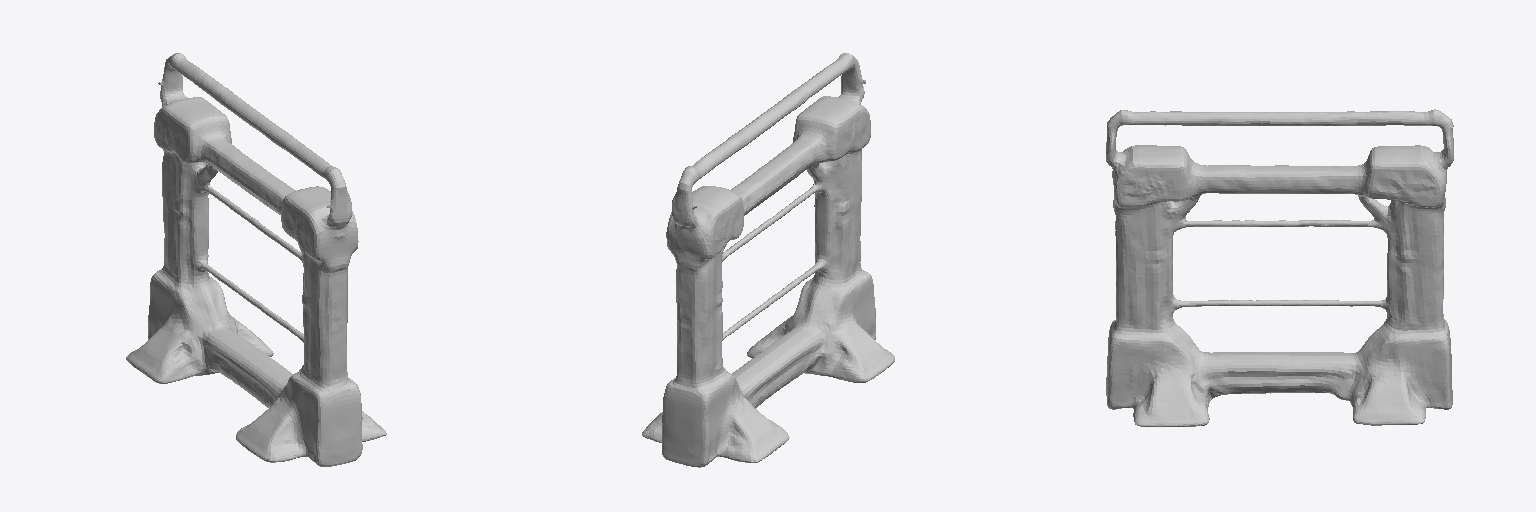
File: 544d33f1e6b6_a_sci_fi_barrier_mi.obj
The picture shows the model from 3 angles: view 1: azimuth 30°, elevation 25°; view 2: azimuth 150°, elevation 25°; view 3: azimuth 270°, elevation 25°; orthographic projection.
Parts seen in each view (by area): view 1: mesh; view 2: mesh; view 3: mesh.
Boxes of the visible parts, box(x1,y1,x2,y2) form: mesh: box(126, 53, 386, 466); mesh: box(642, 53, 894, 467); mesh: box(1106, 109, 1453, 426).
Size of the model in its own units: 0.4073 by 0.9247 by 0.9997.